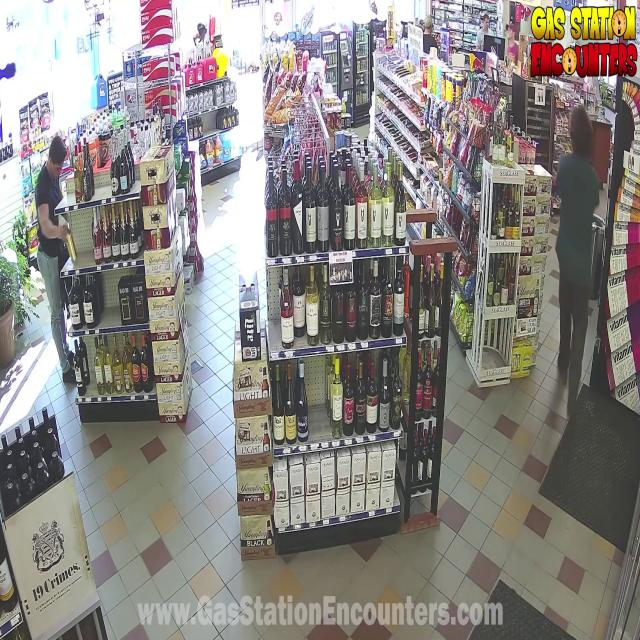Product: (62, 222, 82, 269)
normal: (526, 94, 639, 443), (463, 9, 496, 56)
shoplifting: (3, 96, 85, 412)
